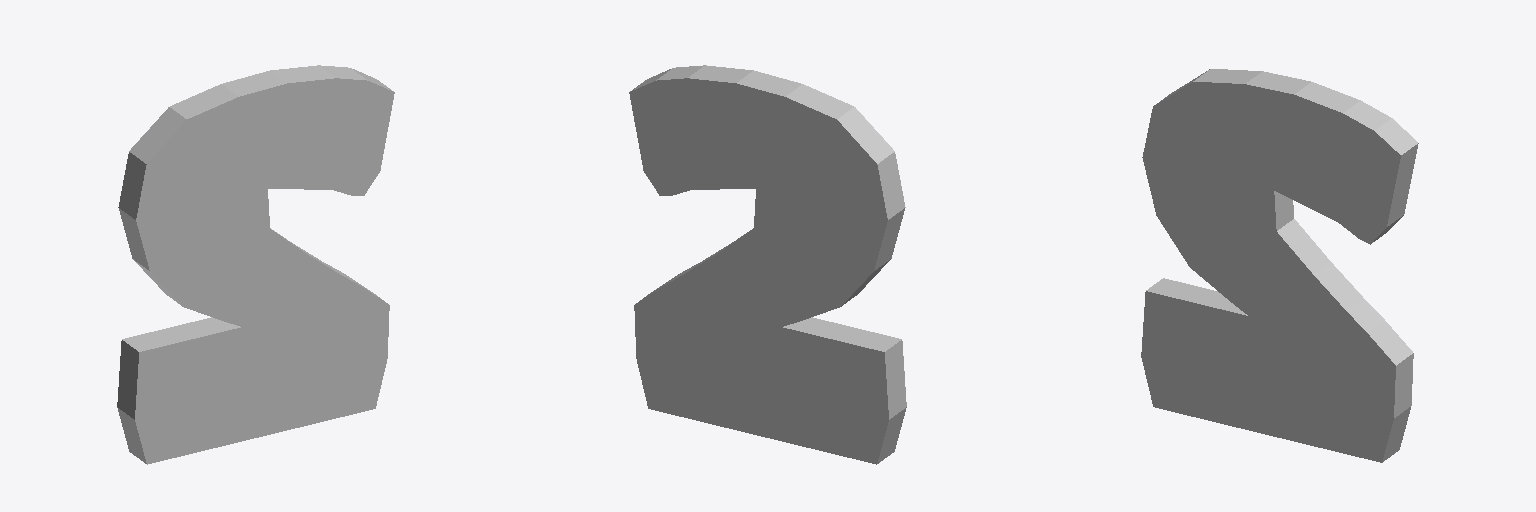
Rendered from number2.obj.
3 views of the same model, side by side, from view 1: azimuth 30°, elevation 25°; view 2: azimuth 150°, elevation 25°; view 3: azimuth 330°, elevation 25° (orthographic).
Visible parts, largest first — view 1: 2; view 2: 2; view 3: 2.
Part boxes in pixels (bbox=[...]): 2: bbox=[117, 65, 394, 464]; 2: bbox=[629, 65, 906, 464]; 2: bbox=[1141, 69, 1418, 462].
Size of the model in its own units: 1.7 by 2.17 by 0.2.